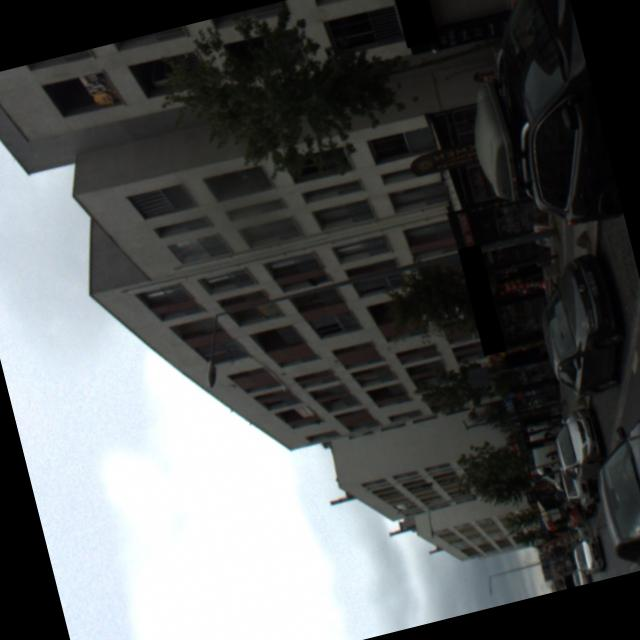SignStore: (457, 242, 506, 355), (395, 0, 434, 46)
